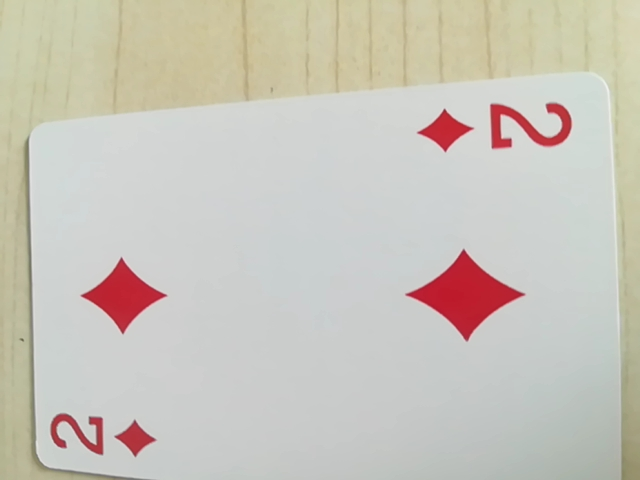fk 2: (420, 95, 574, 161), (44, 401, 168, 470)
